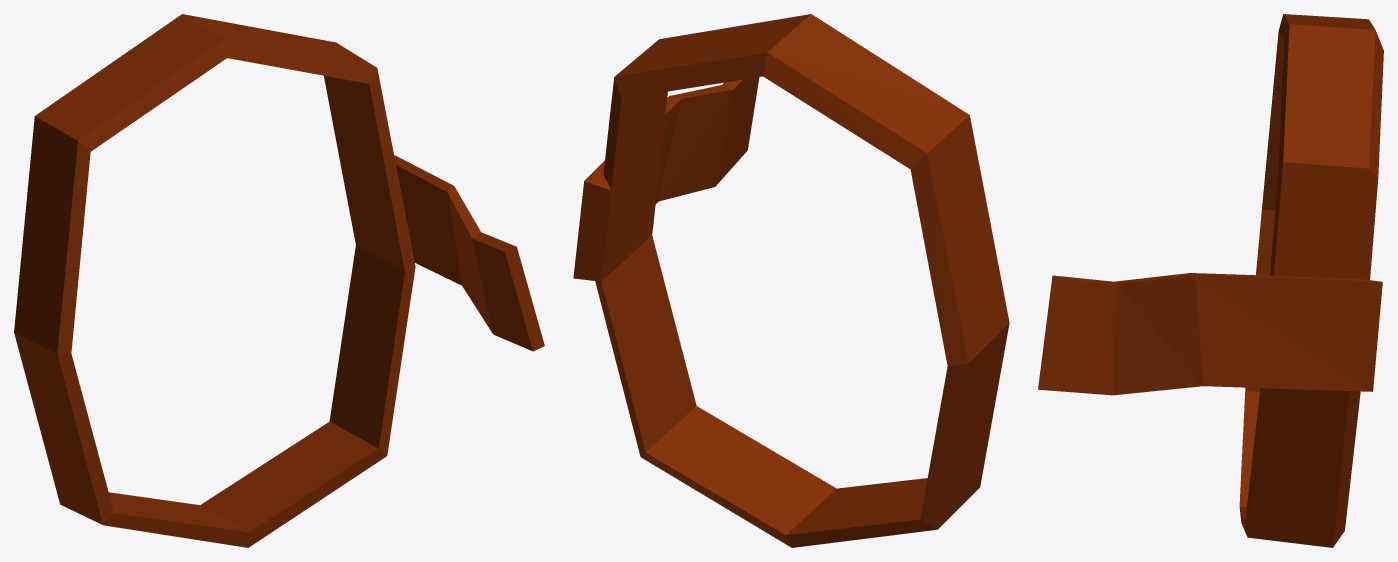
The model's file is Headband 10.FBX.
3 renders of one model, left to right at view 1: azimuth 30°, elevation 25°; view 2: azimuth 150°, elevation 25°; view 3: azimuth 270°, elevation 25°, orthographic. The views are drawn at different scales.
Visible parts, largest first — view 1: Headband 10; view 2: Headband 10; view 3: Headband 10.
Part boxes in pixels (box(x1,y1,x2,y2)): Headband 10: box(14, 14, 544, 547); Headband 10: box(573, 14, 1009, 547); Headband 10: box(1038, 14, 1383, 547).
Bounding box in the file's own units: 31.83 × 39.79 × 24.54.
